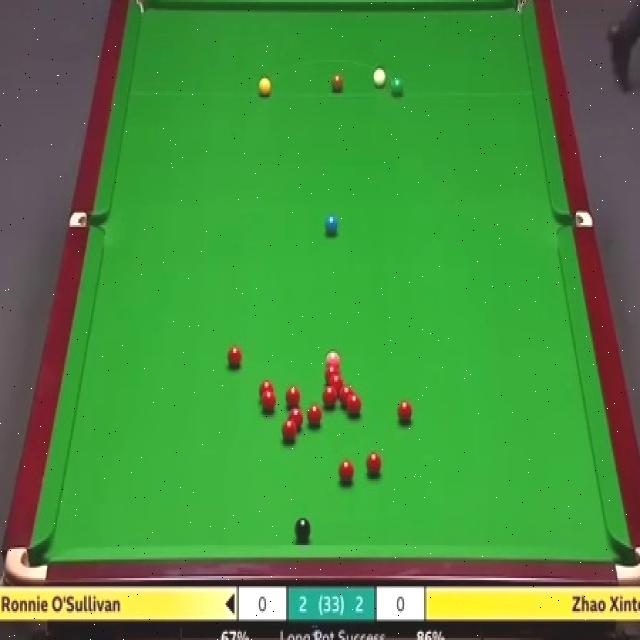black-ball: (293, 514, 311, 540)
blue-ball: (324, 216, 339, 233)
brown-ball: (332, 74, 343, 92)
green-ball: (390, 74, 405, 98)
pink-ball: (325, 350, 343, 366)
red-ball: (396, 396, 413, 424), (226, 344, 242, 369), (322, 385, 338, 409), (308, 401, 323, 426), (283, 416, 299, 439), (346, 393, 362, 414), (263, 389, 277, 413), (338, 456, 352, 480), (365, 451, 380, 473), (285, 385, 301, 405), (289, 410, 304, 430), (322, 364, 340, 380), (338, 382, 352, 402), (258, 379, 272, 399), (328, 373, 342, 392)
white-ball: (373, 67, 387, 89)
yellow-ball: (259, 76, 271, 98)
